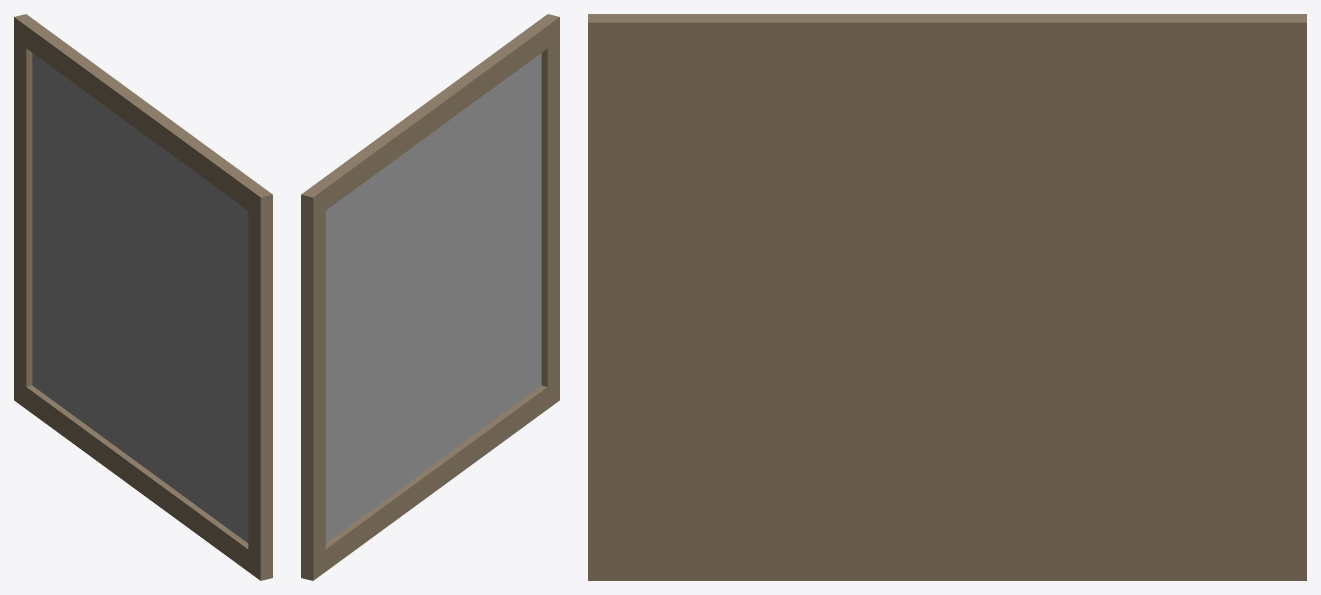
Rendered from Painting_L_SM.fbx.
The picture shows the model from 3 angles, left to right: view 1: azimuth 30°, elevation 25°; view 2: azimuth 150°, elevation 25°; view 3: azimuth 270°, elevation 25°; orthographic projection. The views are drawn at different scales.
Parts seen in each view (by area): view 1: Tavla_L; view 2: Tavla_L; view 3: Tavla_L.
Part boxes in pixels (x1=…): Tavla_L: x1=14, y1=14, x2=272, y2=580; Tavla_L: x1=301, y1=14, x2=559, y2=580; Tavla_L: x1=588, y1=14, x2=1306, y2=580.
Size of the model in its own units: 2 by 60 by 70.
